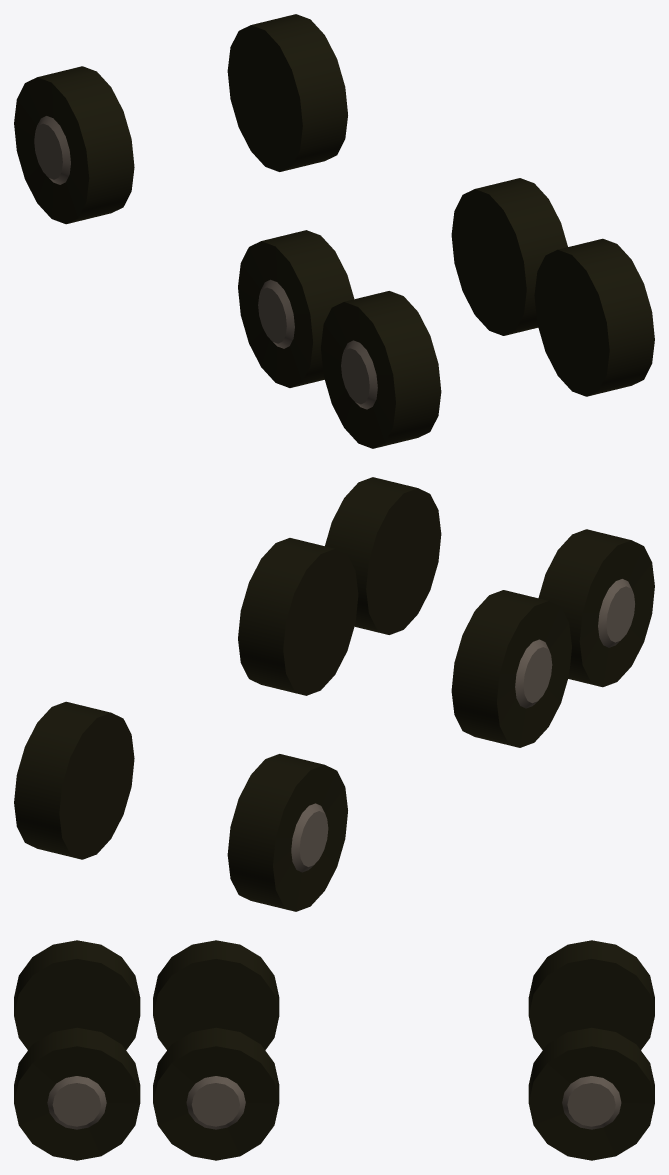
File: military_veh1_wheels.fbx
3 renders of one model, top to bottom at view 1: azimuth 30°, elevation 25°; view 2: azimuth 150°, elevation 25°; view 3: azimuth 270°, elevation 25°, orthographic. The views are drawn at different scales.
Visible parts, largest first — view 1: military_veh1_wheels; view 2: military_veh1_wheels; view 3: military_veh1_wheels.
Part boxes in pixels (x1,y1,x2,y2): military_veh1_wheels: (14,14,654,448); military_veh1_wheels: (14,477,654,911); military_veh1_wheels: (14,940,654,1160).
Size of the model in its own units: 230 by 113 by 573.
